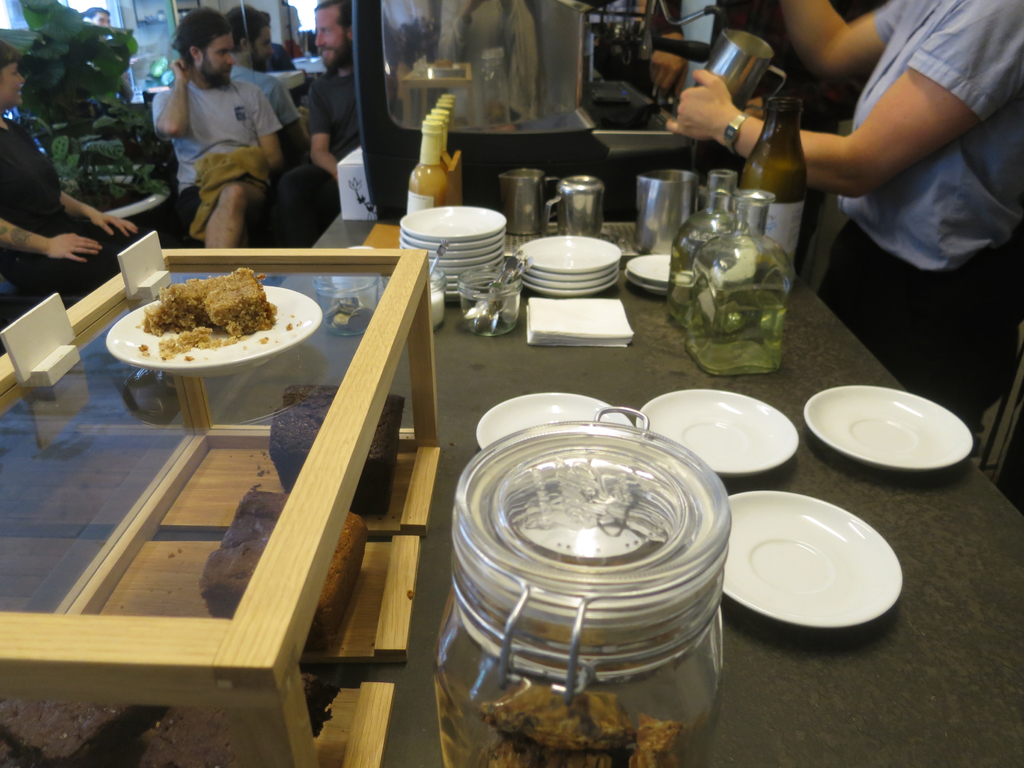plate: (800, 375, 967, 477)
